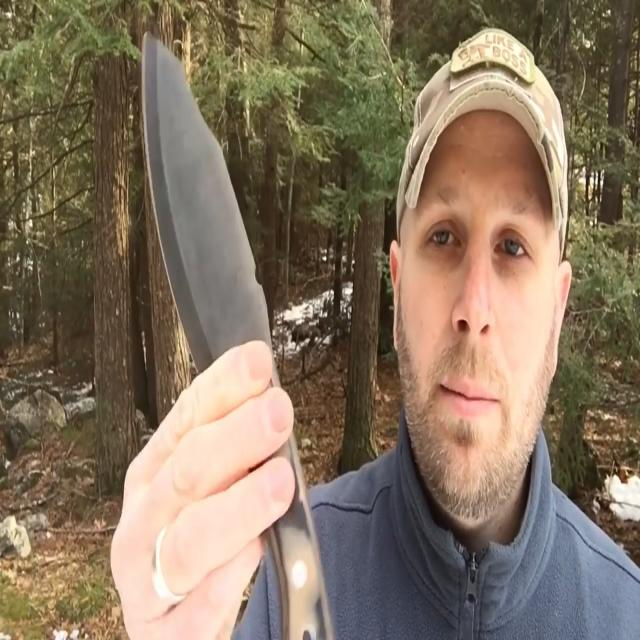knife: (138, 29, 347, 640)
